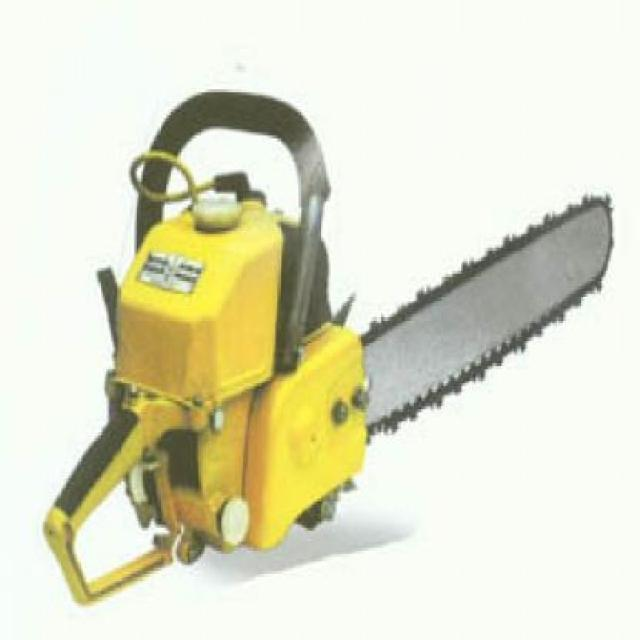Chainsaw: (43, 85, 615, 606)
